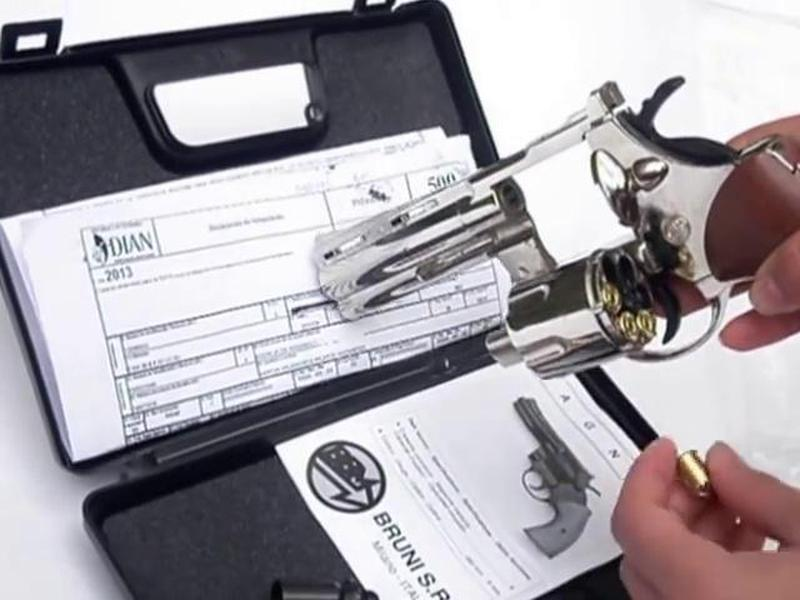Revolver: (277, 85, 800, 346)
